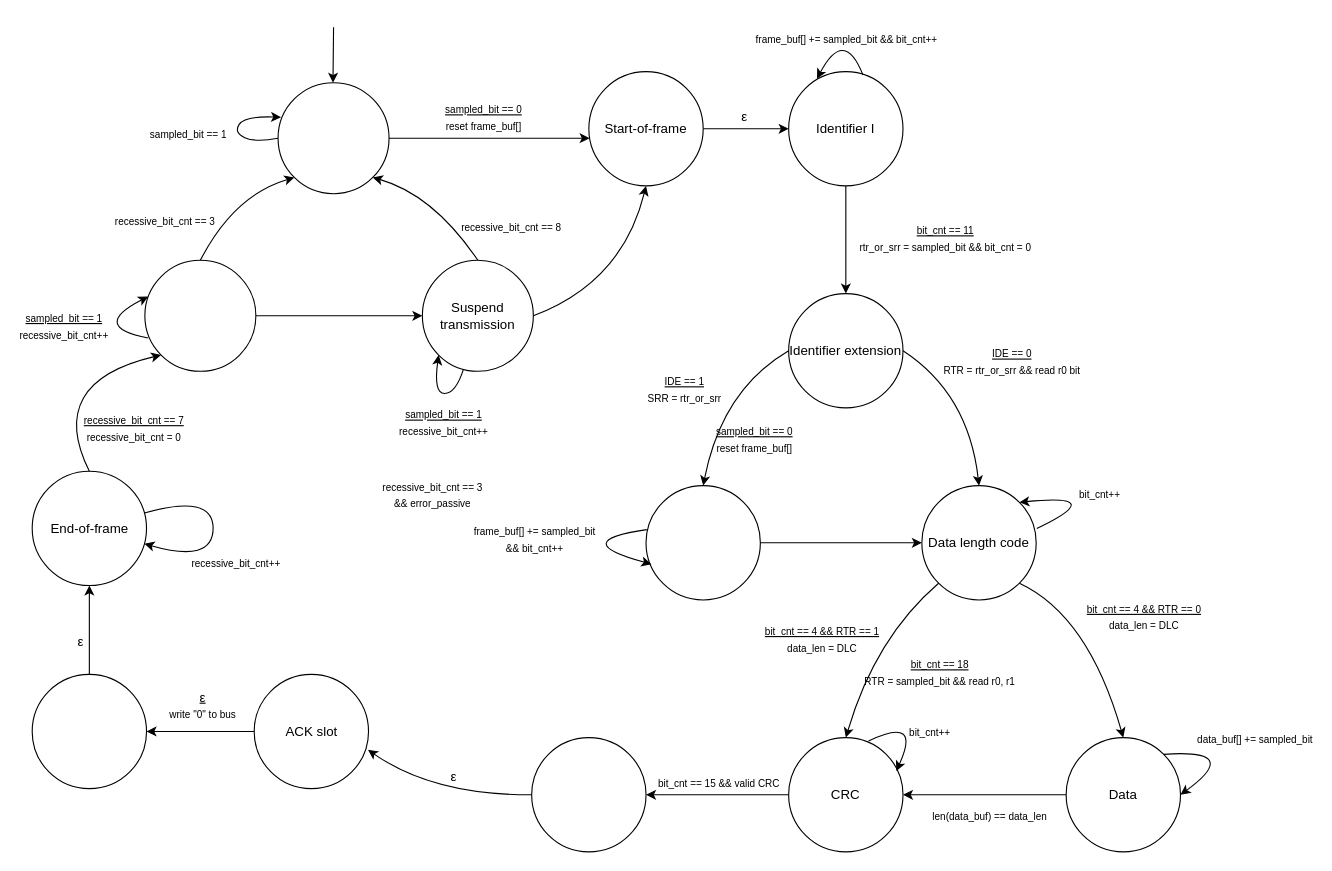
Image size: 1332x871. Some labels were removed from this diagram. Here are the shapes that lost their labels. From the top down, the centre of each, then its label:
At (x=333, y=138): "Bus idle".
At (x=200, y=315): "Intermission".
At (x=702, y=542): "Identifier II".
At (x=89, y=731): "ACK delimiter".
At (x=588, y=794): "CRC delimiter".
